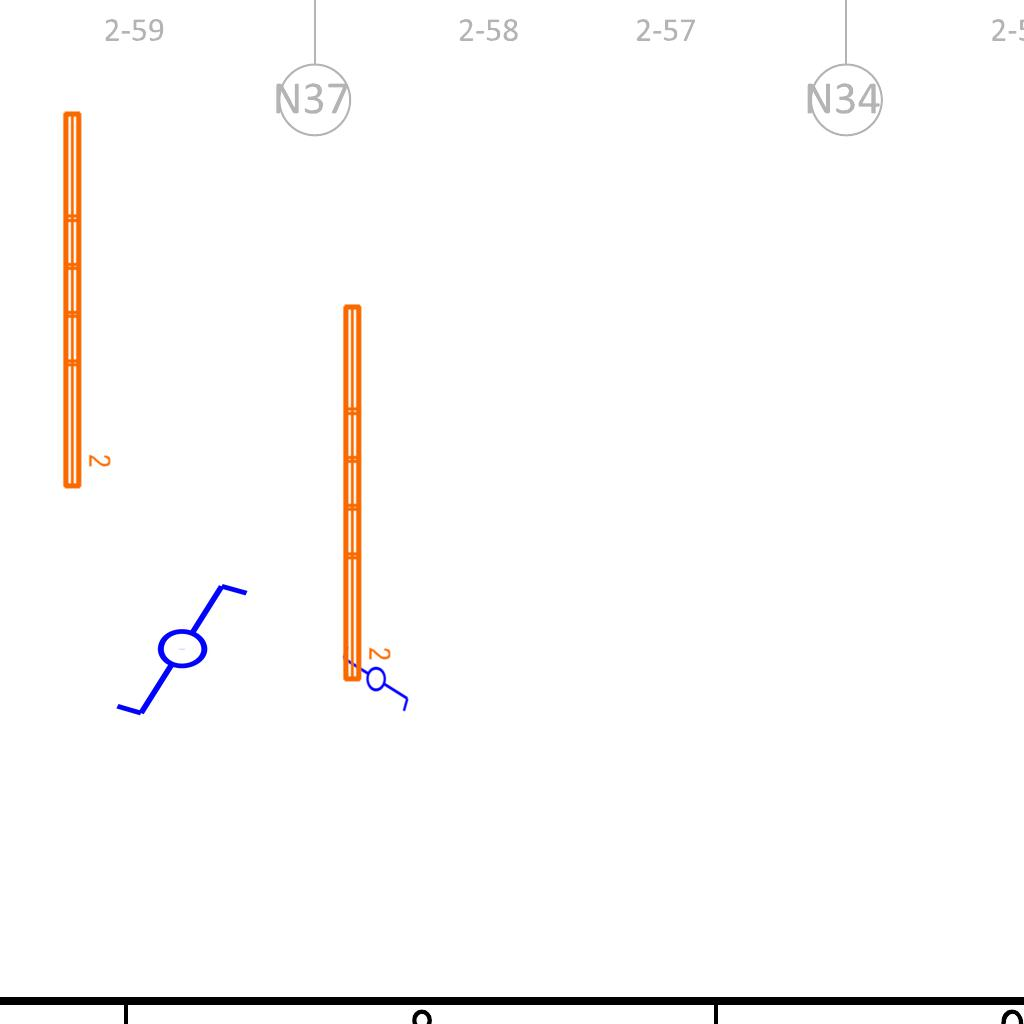Ambulanz_Pendelleuchte_LED: (57, 106, 113, 493), (337, 299, 393, 686)
Wechselschalter: (112, 579, 269, 723), (339, 644, 411, 722)
